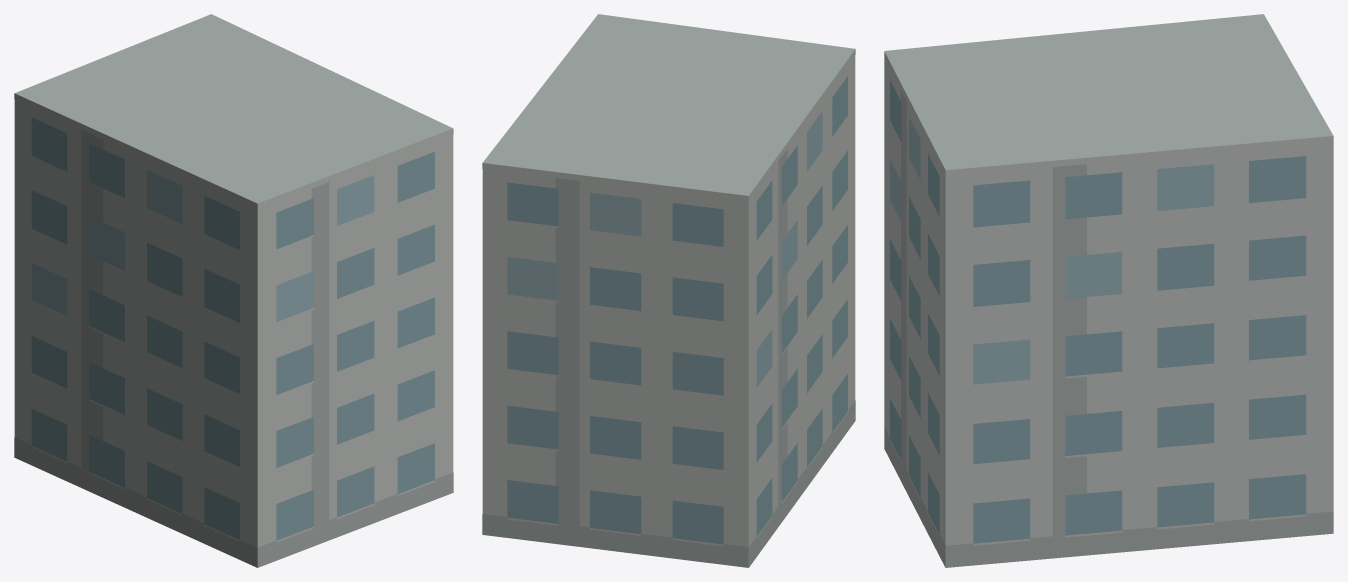
The model's file is survey-upis-32807553.glb.
3 views of the same model, side by side, from view 1: azimuth 30°, elevation 25°; view 2: azimuth 150°, elevation 25°; view 3: azimuth 270°, elevation 25° (orthographic). The views are drawn at different scales.
Parts seen in each view (by area): view 1: survey-upis-32807553.tmp; view 2: survey-upis-32807553.tmp; view 3: survey-upis-32807553.tmp.
Part boxes in pixels (x1,y1,x2,y2): survey-upis-32807553.tmp: (14, 14, 453, 567); survey-upis-32807553.tmp: (482, 14, 855, 567); survey-upis-32807553.tmp: (884, 14, 1333, 567).
Bounding box in the file's own units: 12.64 × 15 × 15.37.
